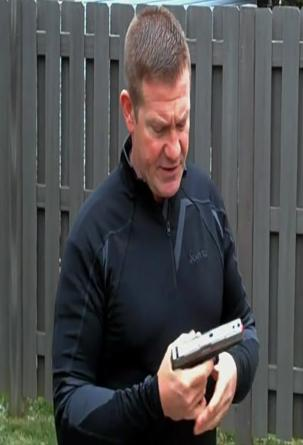pistol: (164, 315, 244, 417)
